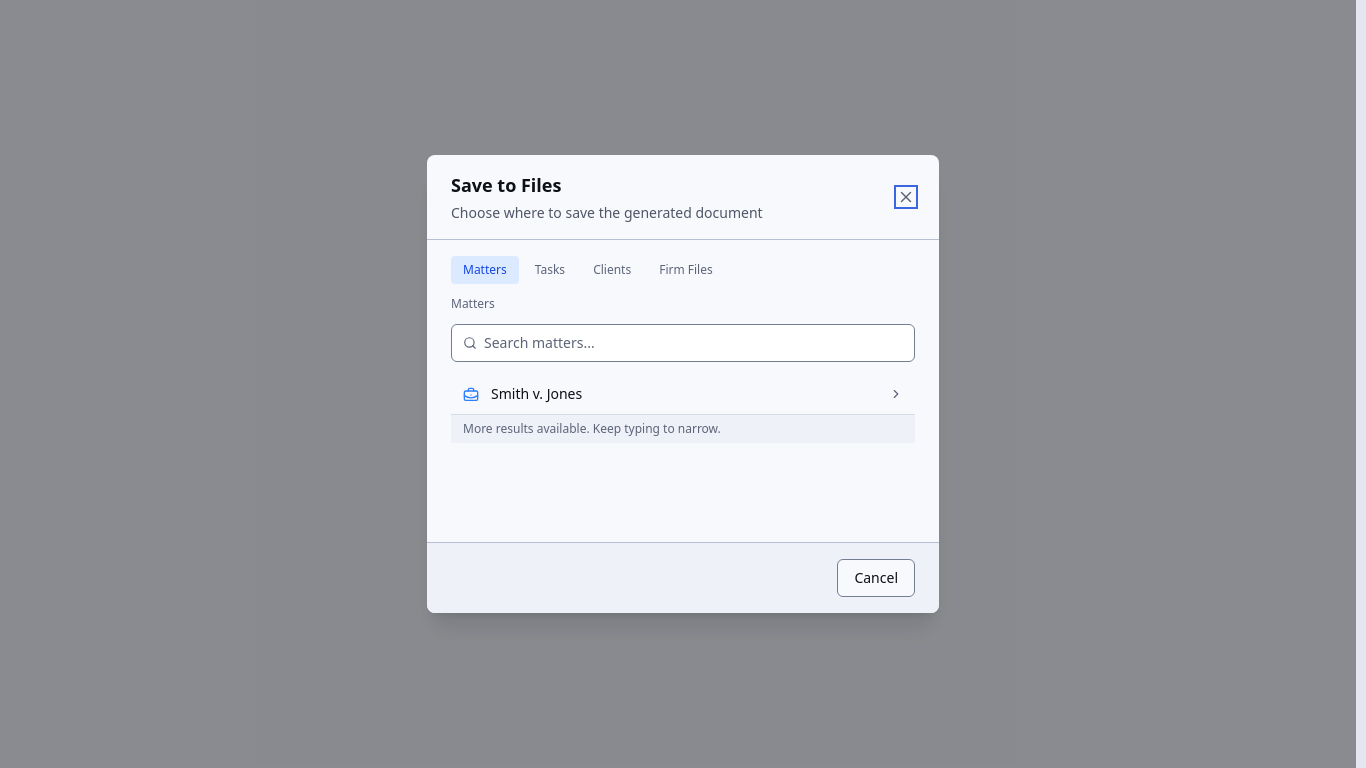
SaveToFilesModal entity lists › does not carry a truncated tab's note onto the next tab
Check: the text "More results available. Keep typing to narrow." is shown, box [451, 414, 915, 443]
Click the button "Clients" at (612, 270), box [581, 256, 643, 284]
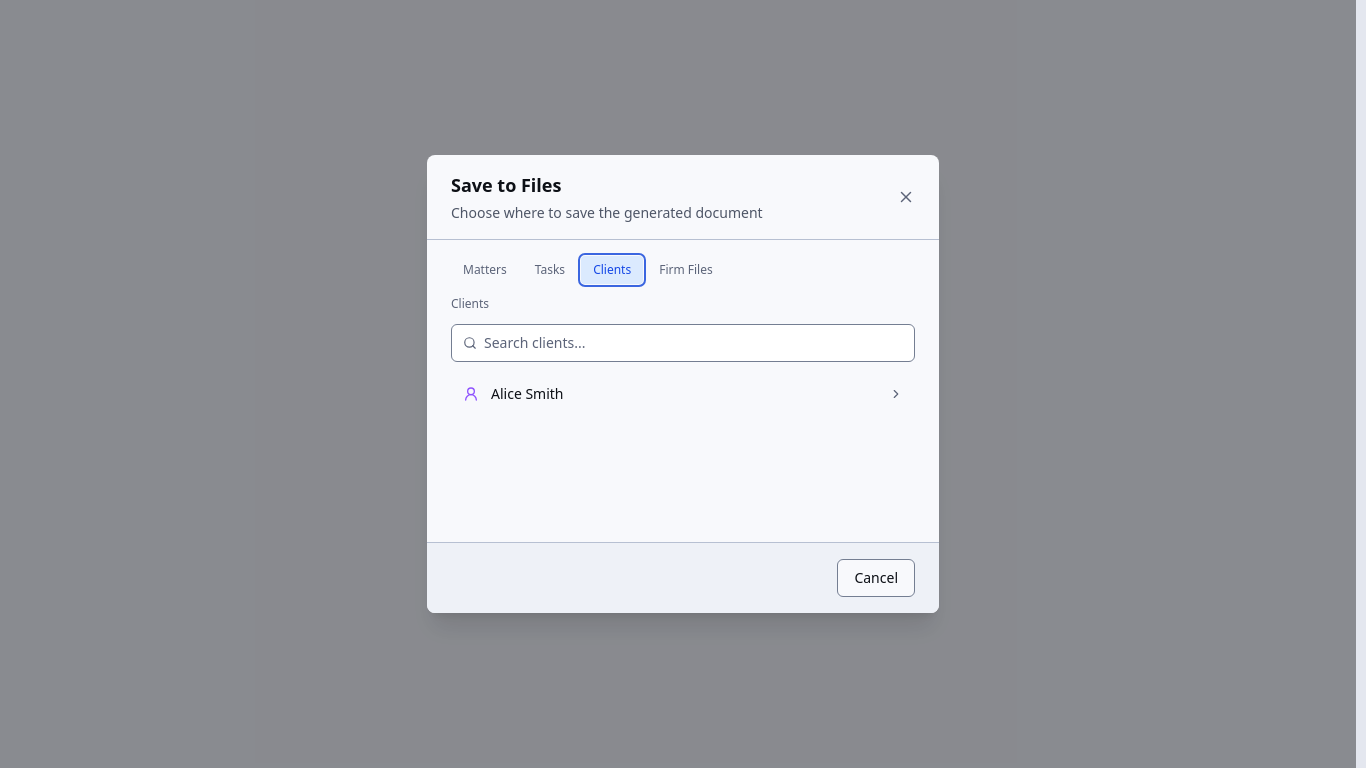
Check: the text "Alice Smith" is shown, box [491, 384, 564, 403]
Check: the text "Keep typing to narrow" is gone
